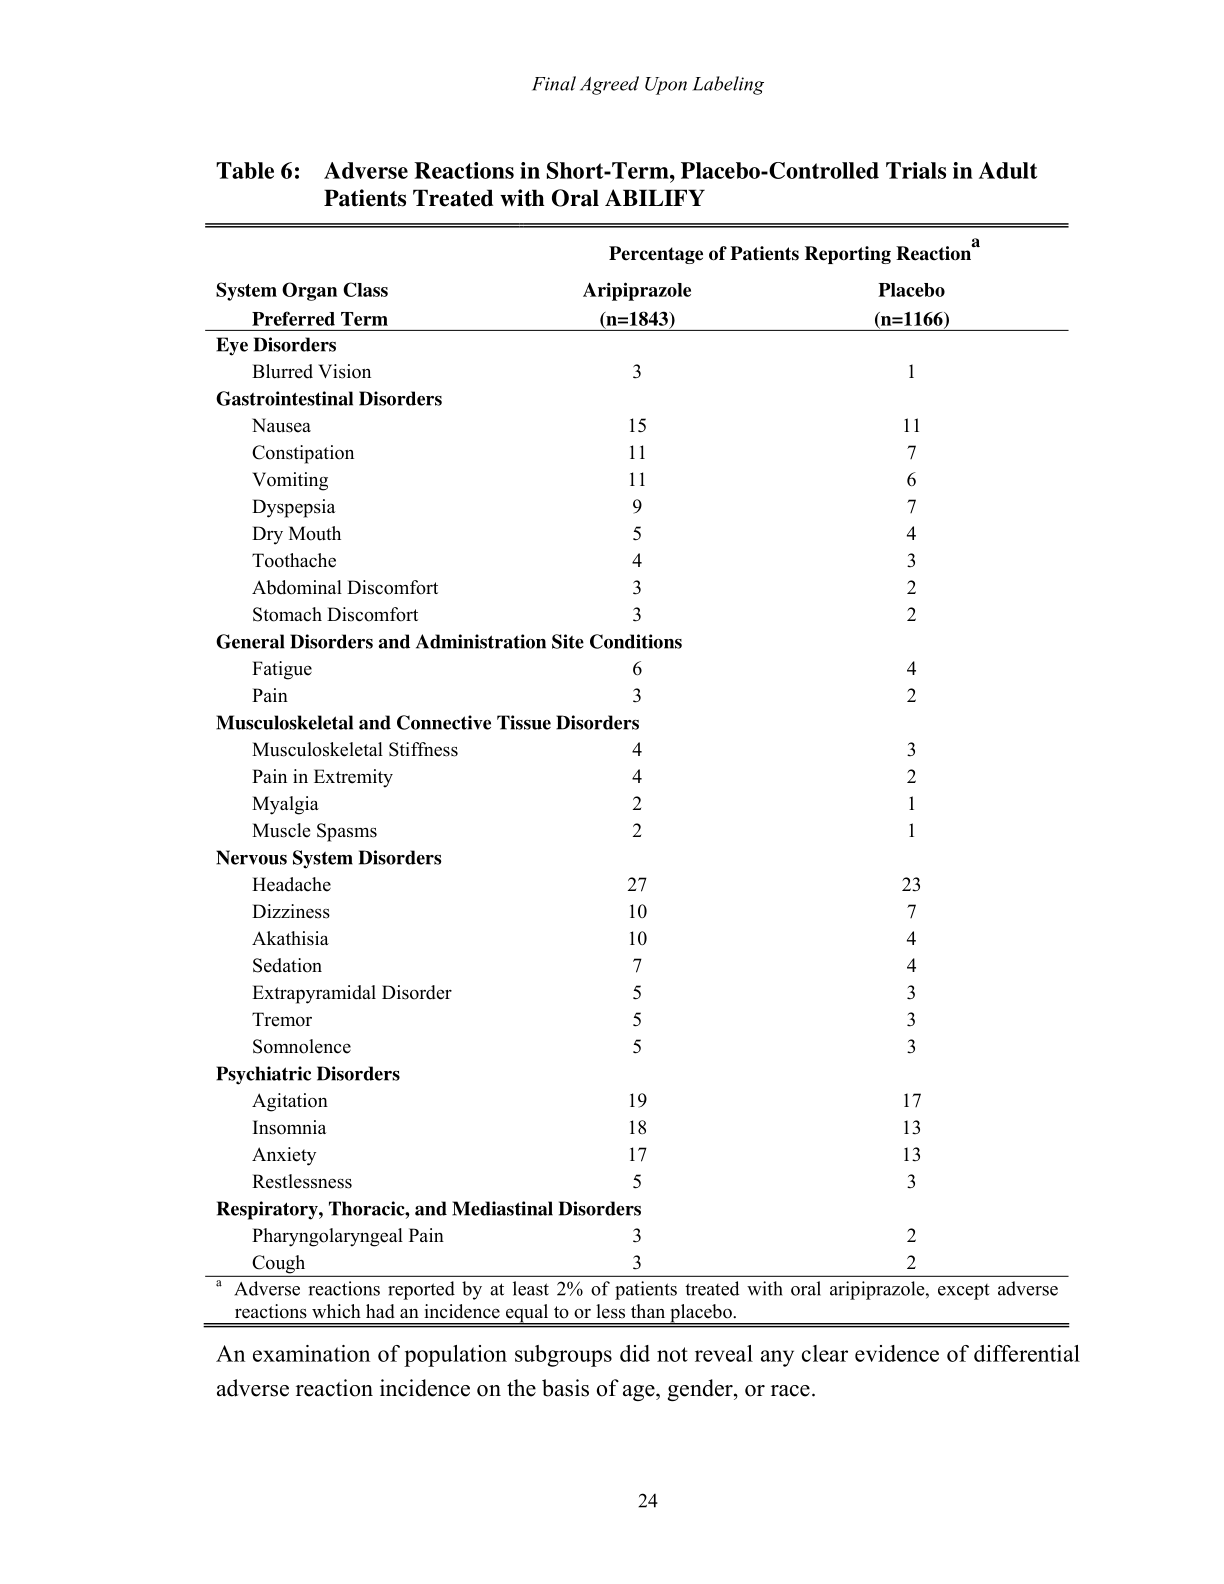partial_lined_merged_cells: (206, 221, 1068, 1278)
